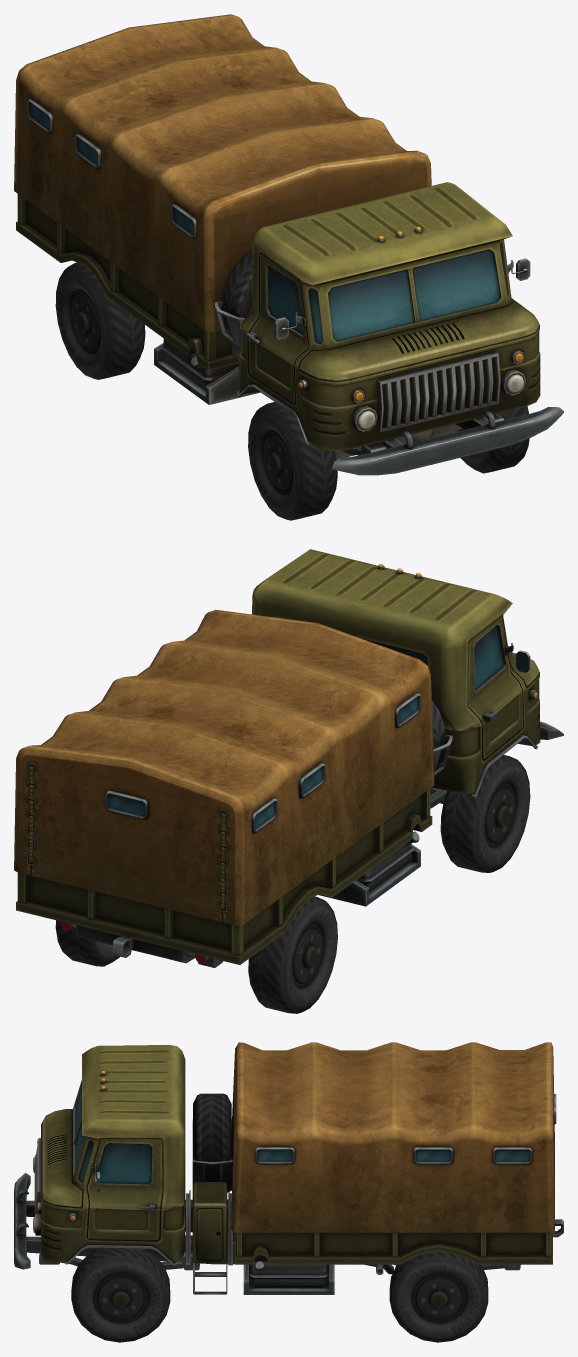
Rendered from gaz_66.fbx.
The picture shows the model from 3 angles, top to bottom: view 1: azimuth 30°, elevation 25°; view 2: azimuth 150°, elevation 25°; view 3: azimuth 270°, elevation 25°; orthographic projection. The views are drawn at different scales.
Parts seen in each view (by area): view 1: Gaz 66, front wheel r, rear wheel r, front wheel l; view 2: Gaz 66, front wheel r, rear wheel r, rear wheel l; view 3: Gaz 66, front wheel l, rear wheel l.
Boxes of the visible parts, bbox=[...] form: Gaz 66: bbox=[14, 14, 563, 475]; front wheel r: bbox=[248, 402, 337, 520]; rear wheel r: bbox=[55, 262, 145, 379]; front wheel l: bbox=[456, 406, 529, 473]; Gaz 66: bbox=[14, 549, 563, 967]; front wheel r: bbox=[440, 755, 530, 872]; rear wheel r: bbox=[248, 896, 337, 1013]; rear wheel l: bbox=[55, 920, 119, 966]; Gaz 66: bbox=[14, 1042, 563, 1294]; front wheel l: bbox=[71, 1247, 170, 1342]; rear wheel l: bbox=[389, 1251, 488, 1342].
Bounding box in the file's own units: 260 × 266 × 589.
Materials: 1 (1 with a texture image).
